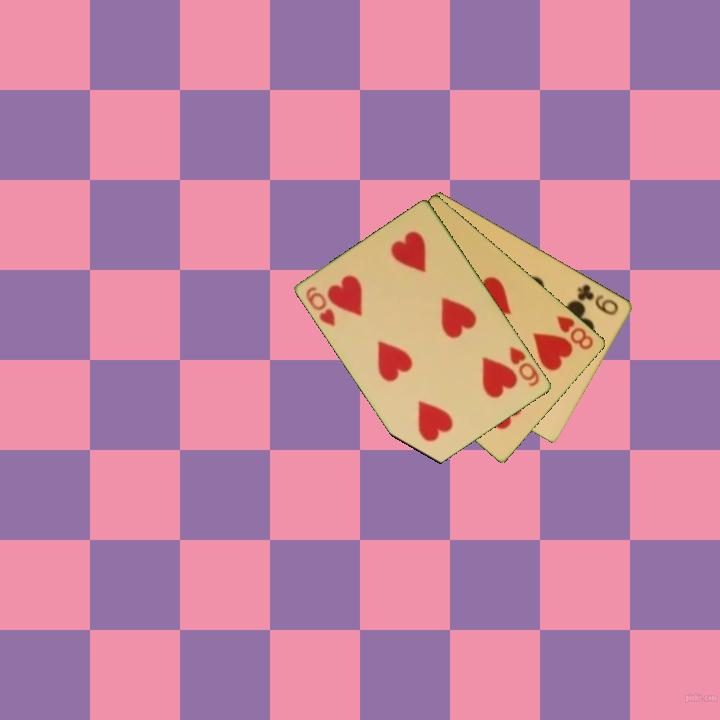6h: (506, 343, 543, 390), (302, 283, 339, 330)
8h: (553, 312, 597, 352)
9c: (574, 280, 622, 318)
